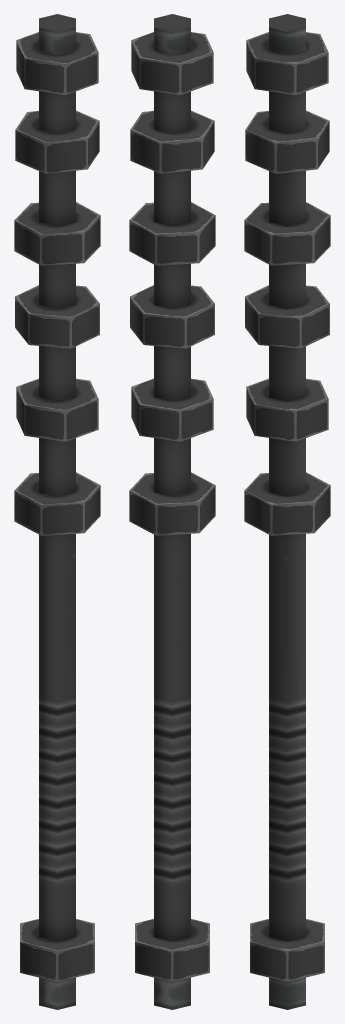
The model's file is w_rod.FBX.
3 renders of one model, left to right at view 1: azimuth 30°, elevation 25°; view 2: azimuth 210°, elevation 25°; view 3: azimuth 330°, elevation 25°, orthographic.
Parts seen in each view (by area): view 1: w_rod; view 2: w_rod; view 3: w_rod.
Part boxes in pixels (x1,y1,x2,y2): w_rod: [14, 14, 100, 1009]; w_rod: [129, 14, 215, 1009]; w_rod: [244, 14, 330, 1009].
Size of the model in its own units: 5.49 by 68.15 by 5.44.
